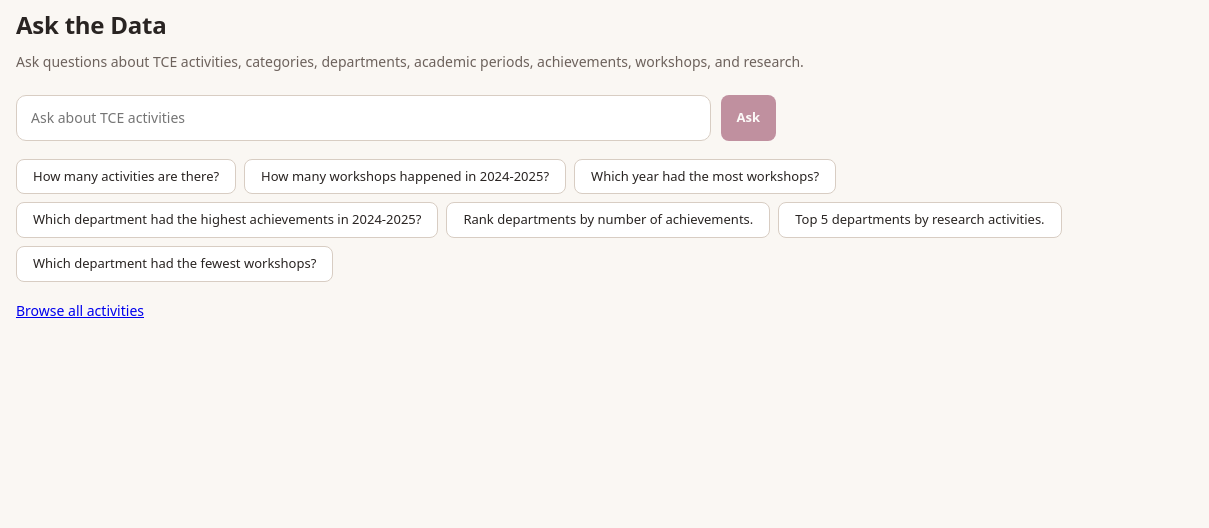
Ask the Data › displays zero-result message cleanly
Click the button "How many workshops happened in 2024-2025?" at (405, 177), box left=244, top=159, right=566, bottom=194
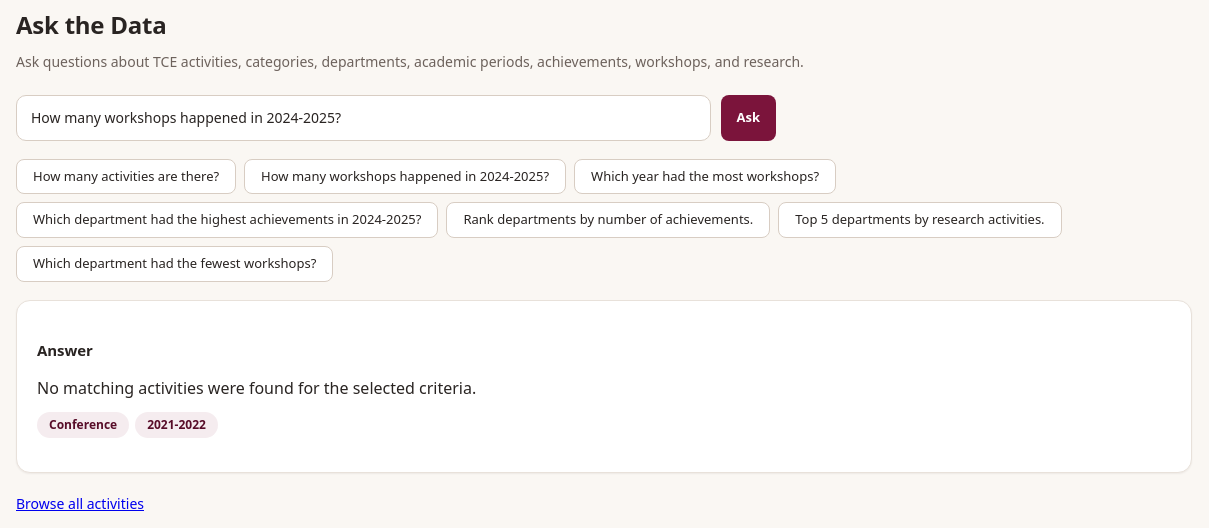
Expected: the text "No matching activities were found for the selected criteria." is shown, left=37, top=377, right=476, bottom=399
